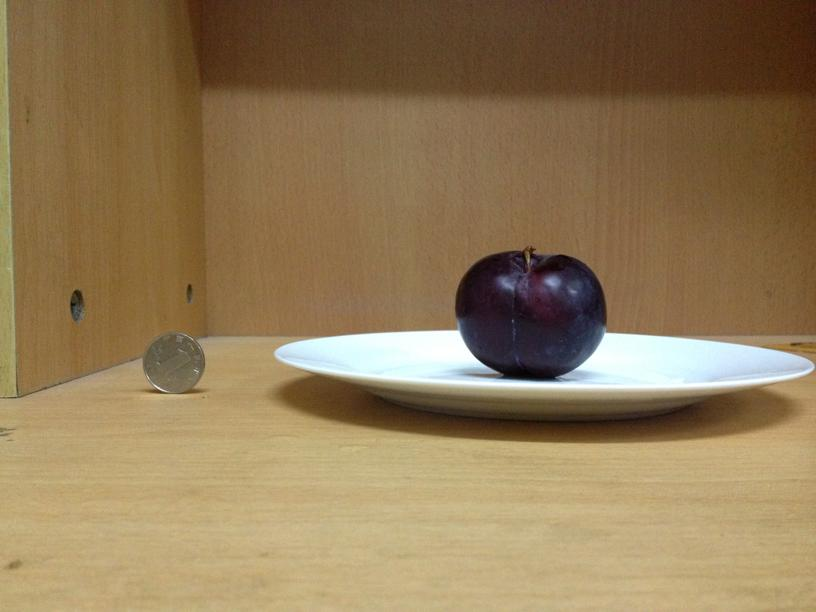coin: (143, 335, 211, 399)
plum: (457, 250, 605, 378)
